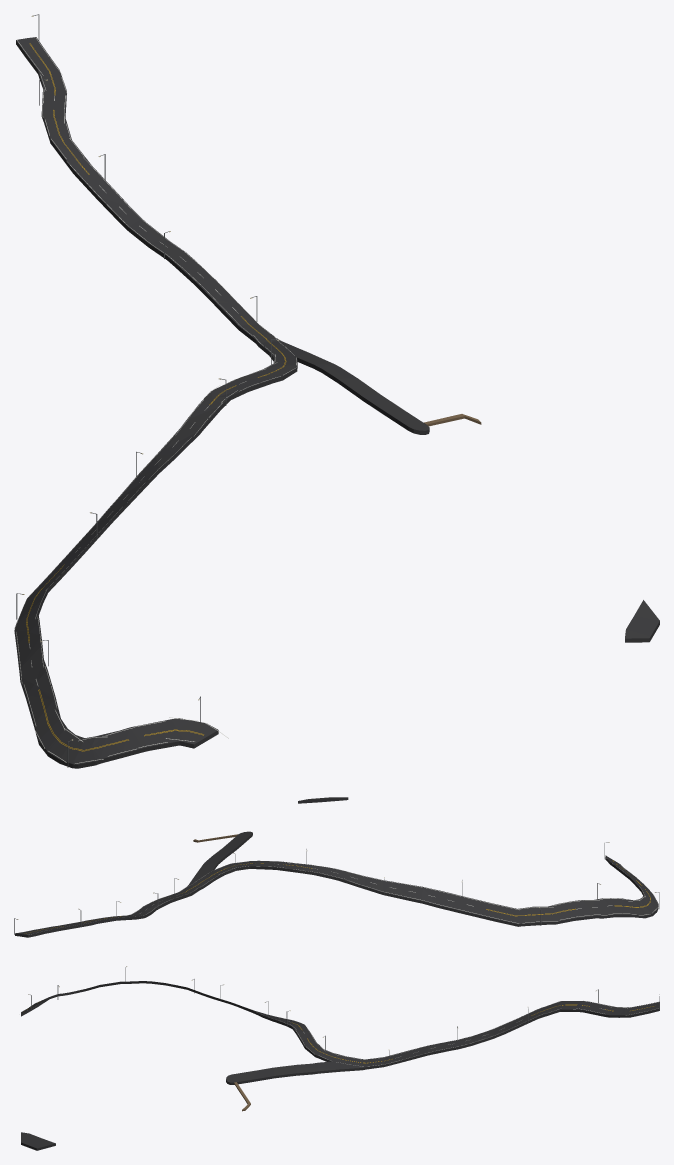
The picture shows the model from 3 angles, top to bottom: view 1: azimuth 30°, elevation 25°; view 2: azimuth 150°, elevation 25°; view 3: azimuth 270°, elevation 25°; orthographic projection. The views are drawn at different scales.
Size of the model in its own units: 175 by 71.72 by 295.
